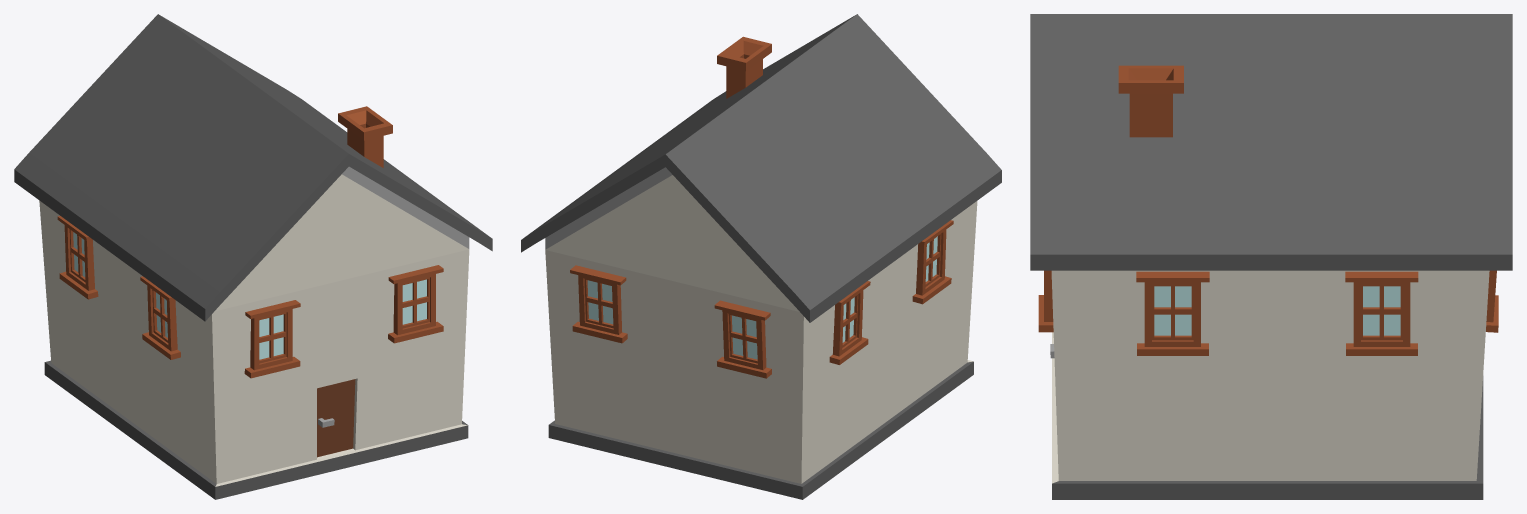
File: casa2.glb
The picture shows the model from 3 angles, left to right: view 1: azimuth 30°, elevation 25°; view 2: azimuth 150°, elevation 25°; view 3: azimuth 270°, elevation 25°; orthographic projection. The views are drawn at different scales.
Visible parts, largest first — view 1: House2_Cube.035; view 2: House2_Cube.035; view 3: House2_Cube.035.
Boxes of the visible parts, bbox=[...] form: House2_Cube.035: bbox=[14, 14, 492, 499]; House2_Cube.035: bbox=[521, 14, 1001, 499]; House2_Cube.035: bbox=[1030, 14, 1512, 499].
Bounding box in the file's own units: 1.25 × 1.34 × 1.44.
Materials: 1 (1 with a texture image).
